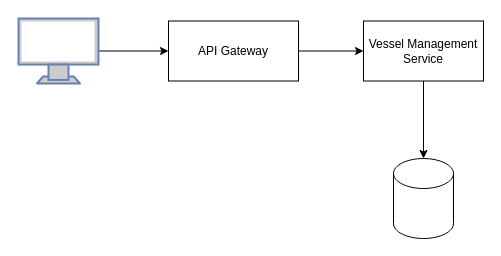
Image size: 501x256. Some labels were removed from this diagram. The shapes that lost their labels are listed below. From the top down, each one's box as (x1, y1, x2, y2) in pixels, then its label:
(17, 17, 99, 84): User
(392, 158, 454, 238): Mysql
